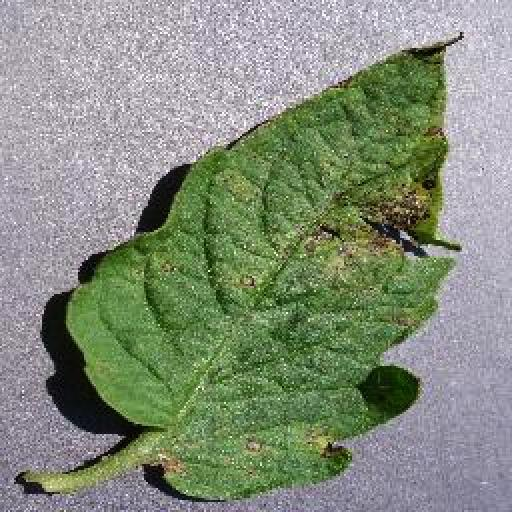disease_tomato: (66, 39, 462, 501)
